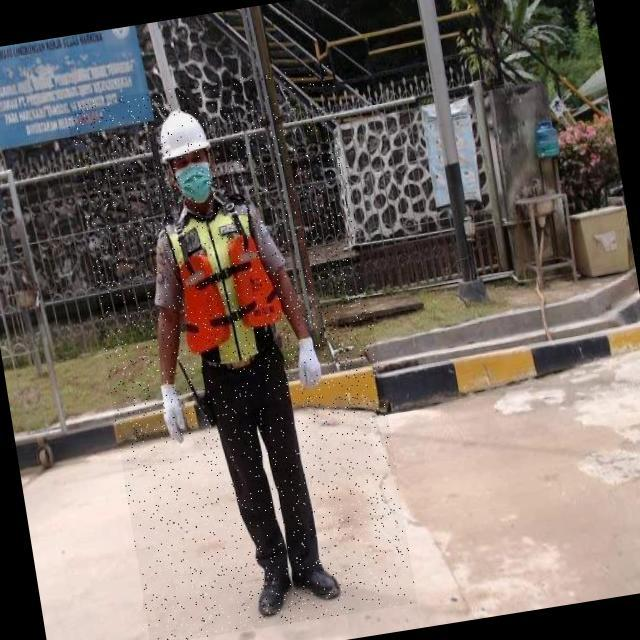Helmet: (150, 106, 211, 163)
Human: (66, 62, 418, 640)
Safety Boot: (244, 568, 299, 623), (292, 557, 345, 610)
Safety Vest: (159, 200, 296, 379)
